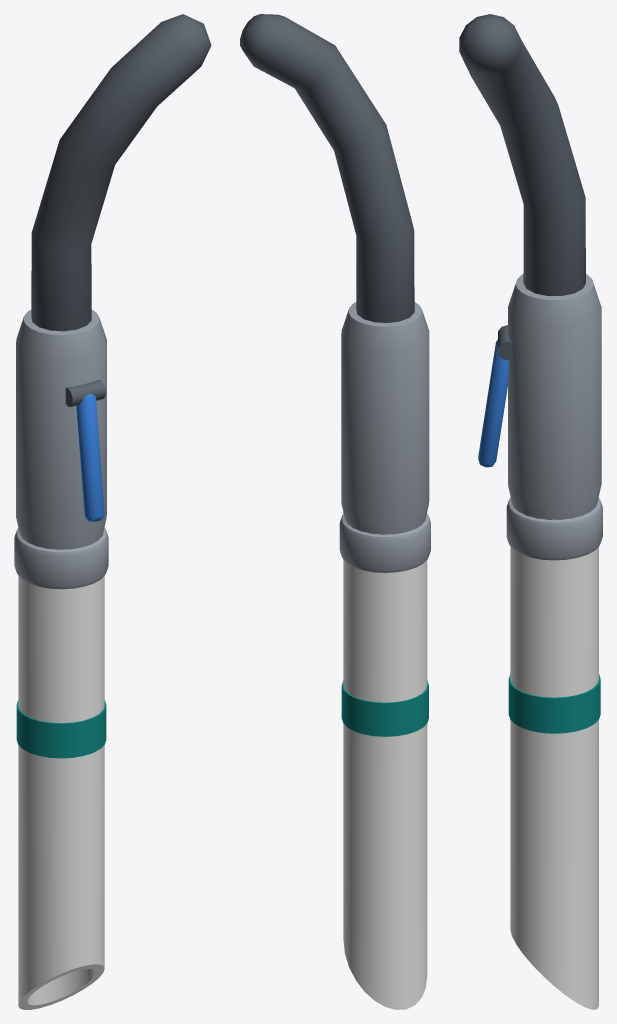
The model's file is tool_hve.glb.
The picture shows the model from 3 angles, left to right: view 1: azimuth 30°, elevation 25°; view 2: azimuth 210°, elevation 25°; view 3: azimuth 270°, elevation 25°; orthographic projection. The views are drawn at different scales.
Visible parts, largest first — view 1: tool_hve; view 2: tool_hve; view 3: tool_hve.
Boxes of the visible parts, bbox=[...] form: tool_hve: bbox=[14, 14, 211, 1009]; tool_hve: bbox=[240, 14, 430, 1009]; tool_hve: bbox=[459, 14, 602, 1009].
Size of the model in its own units: 1.41 by 8.76 by 1.1.
